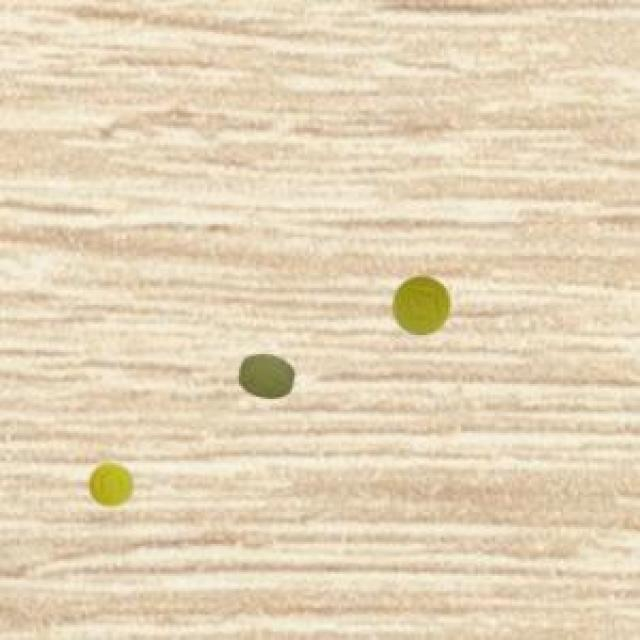Decolgen: (380, 258, 468, 345), (230, 339, 310, 403), (82, 452, 139, 518)
